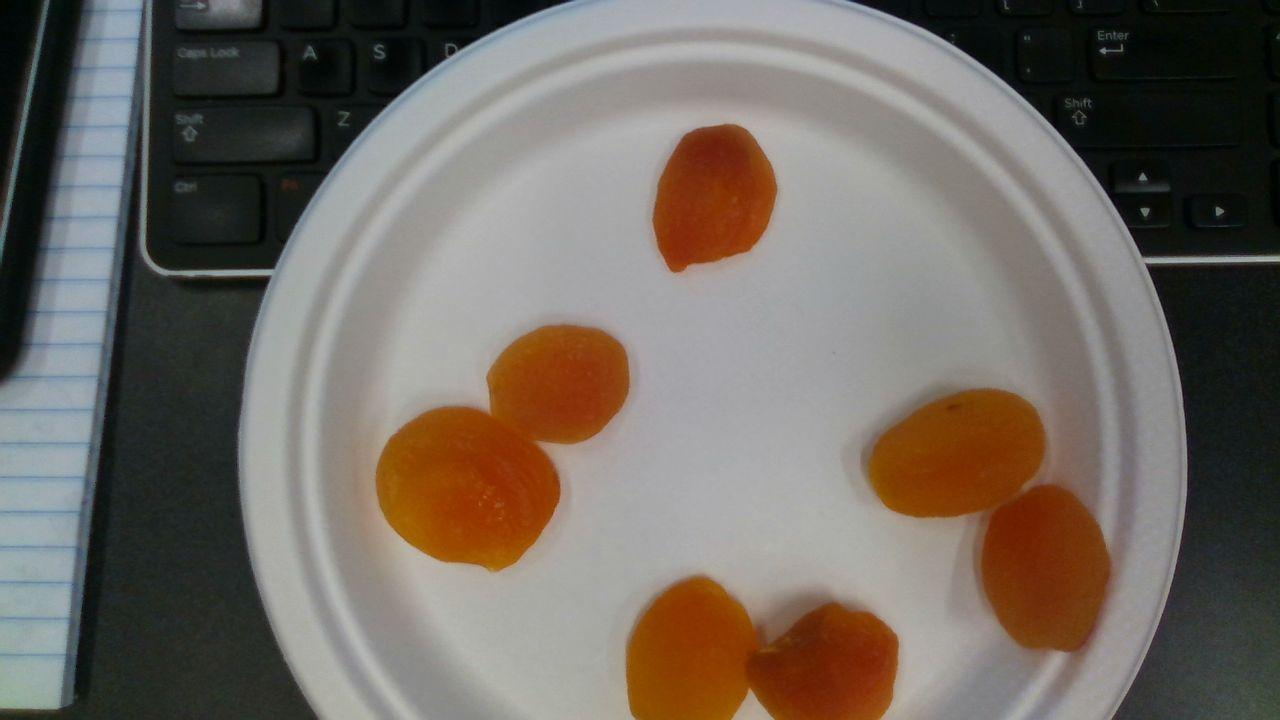apricot: (377, 407, 561, 571), (869, 389, 1045, 517), (982, 484, 1110, 651), (628, 579, 758, 720), (654, 125, 777, 273), (748, 602, 898, 720), (487, 325, 631, 444)
